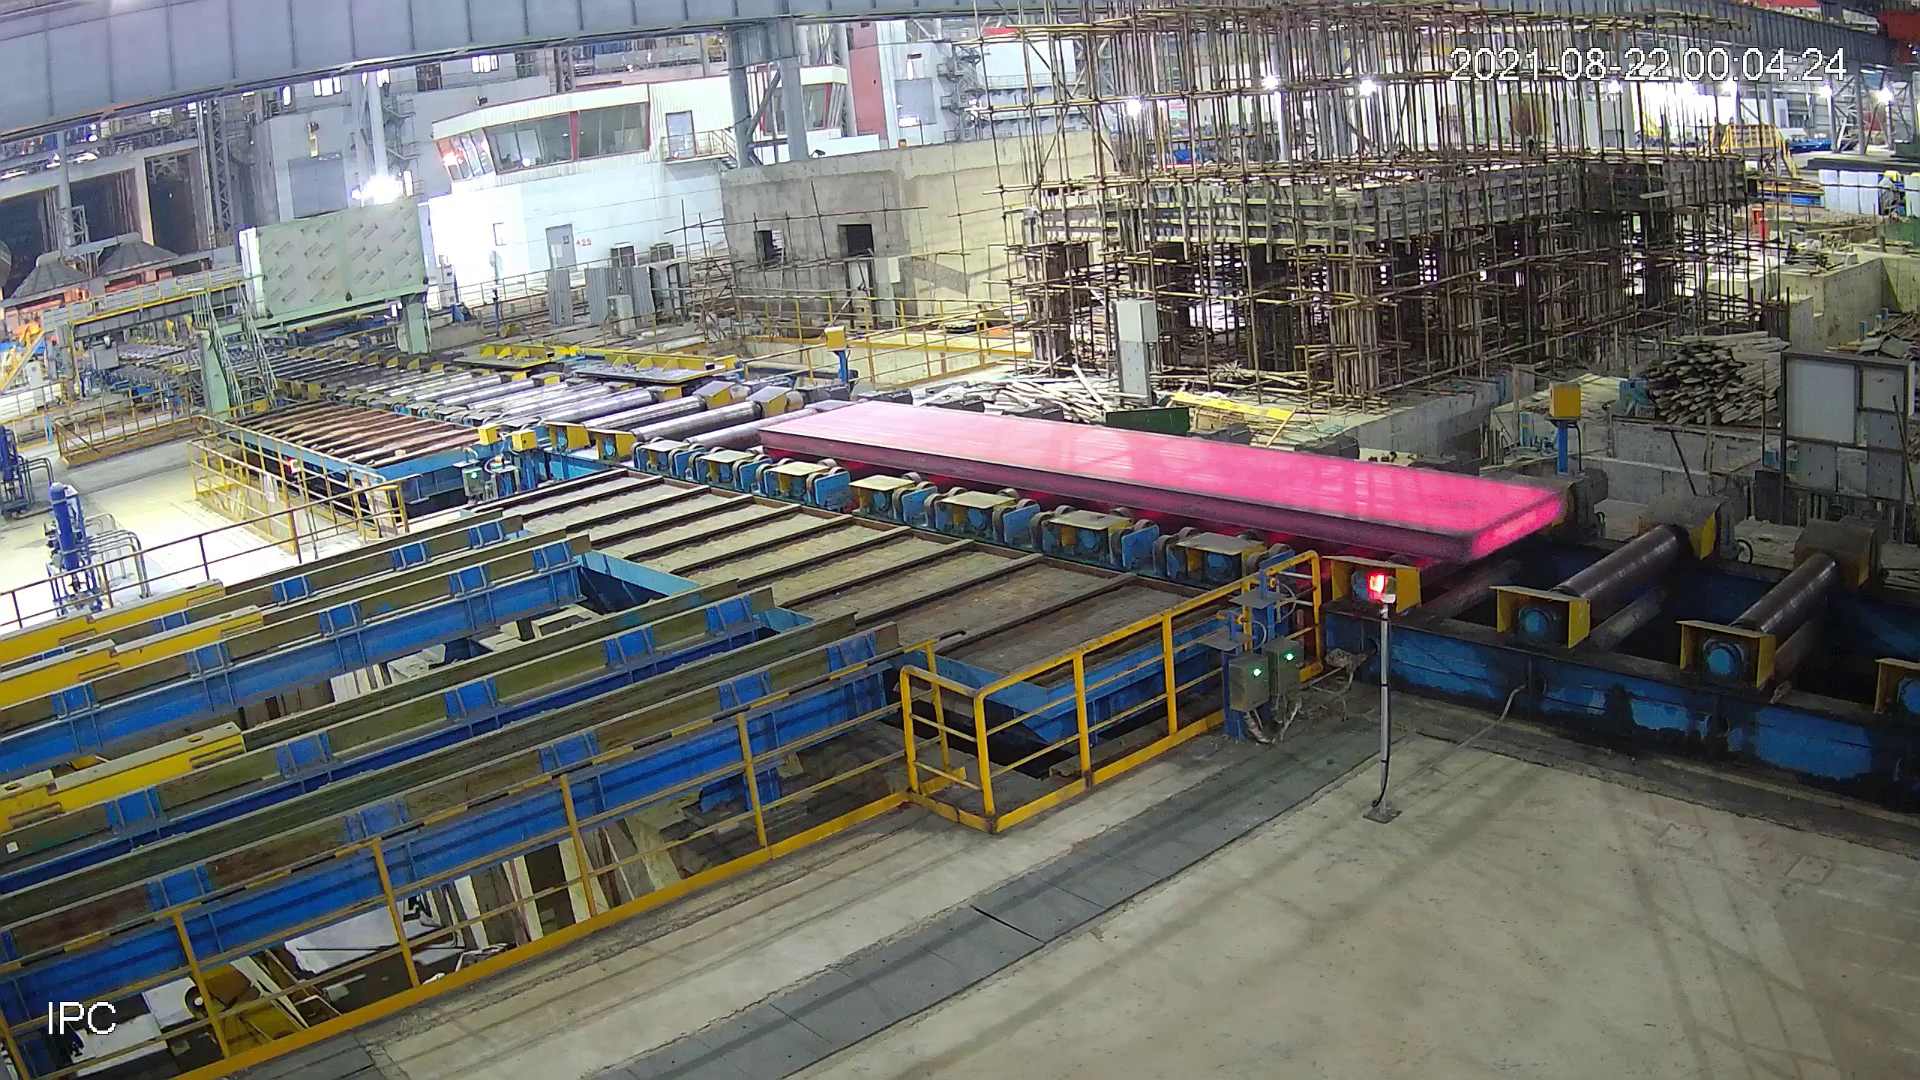slab: (753, 388, 1571, 572)
